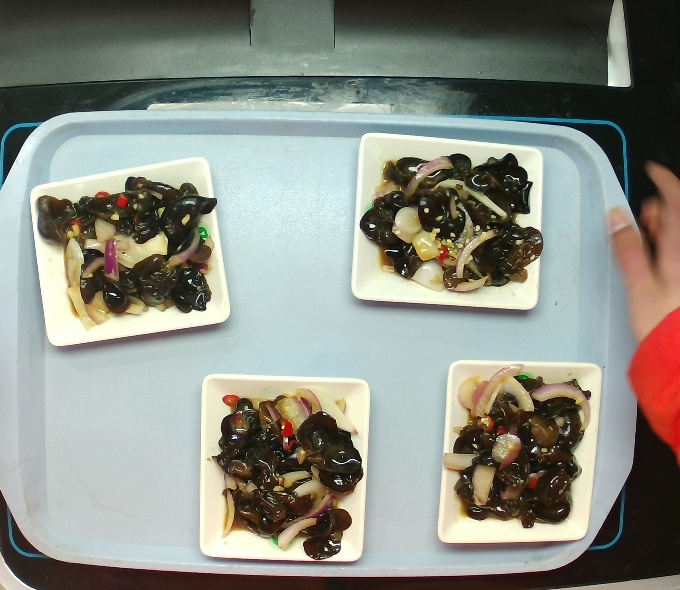wcq-LiangBanMuEr: (342, 144, 560, 302), (439, 363, 596, 536), (38, 170, 217, 321), (218, 395, 356, 547)
